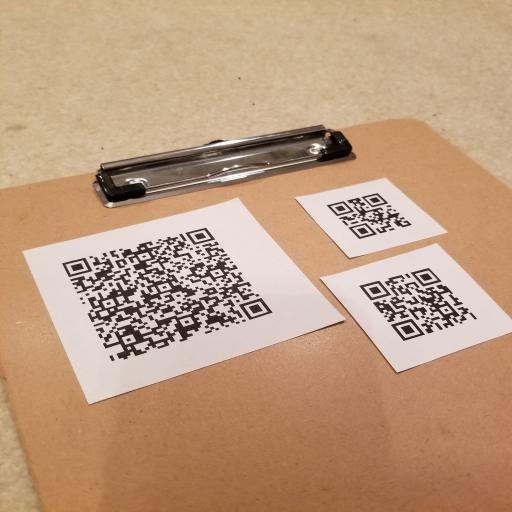QR_CODE: (54, 221, 282, 367), (352, 264, 492, 346), (319, 183, 419, 246)
